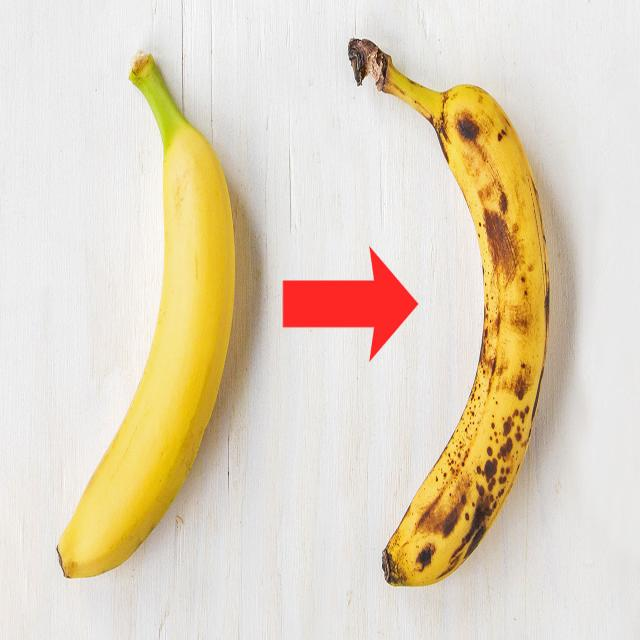non_orange: (370, 43, 555, 596), (56, 47, 235, 583)
